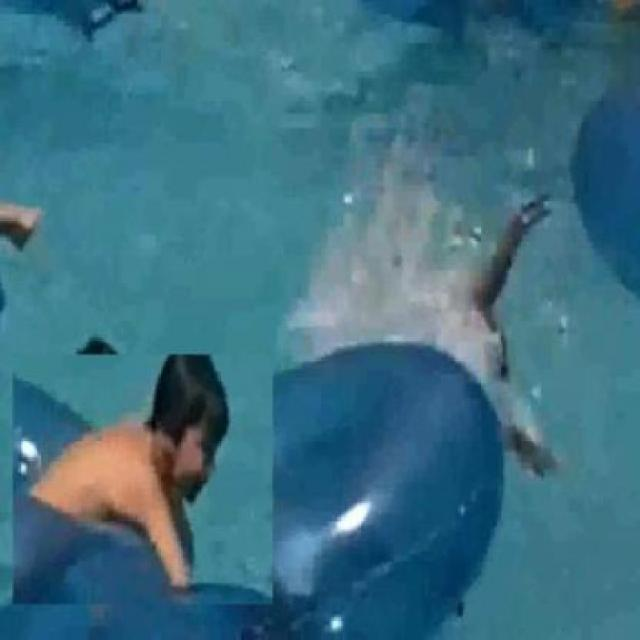drowning: (314, 140, 552, 382)
swimming: (13, 356, 275, 606)
